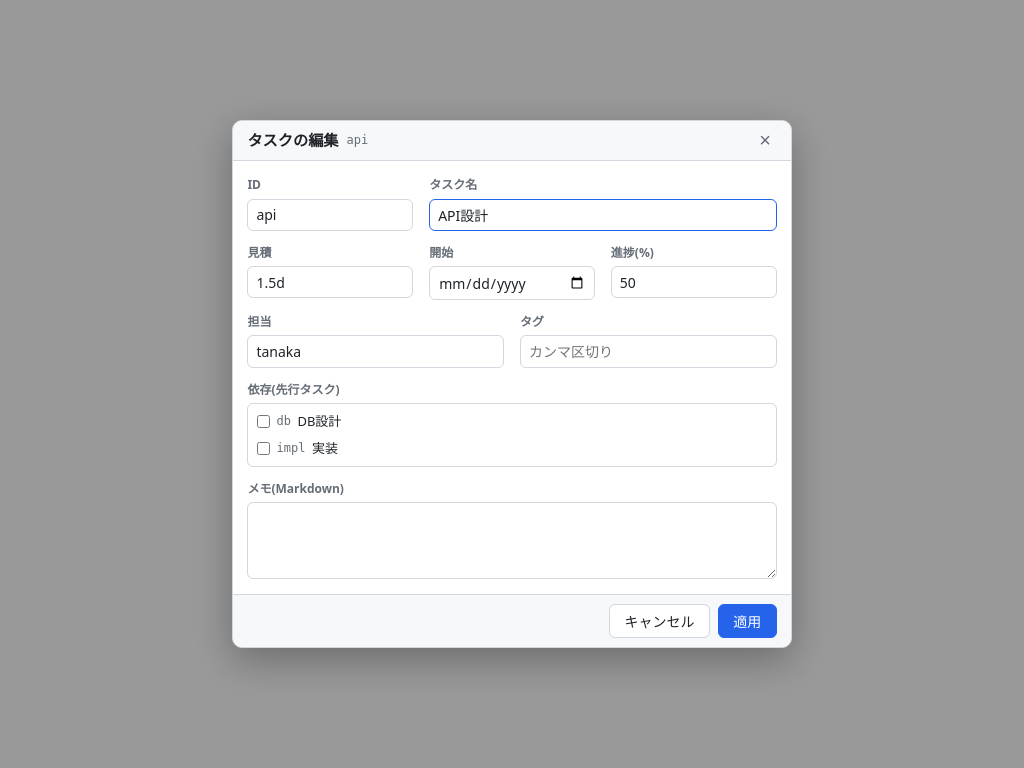
Test: TaskDialog › id の形式違反はエラーになる
Clear the field labelled "ID" at (330,215), box x1=247 y1=199 x2=413 y2=231
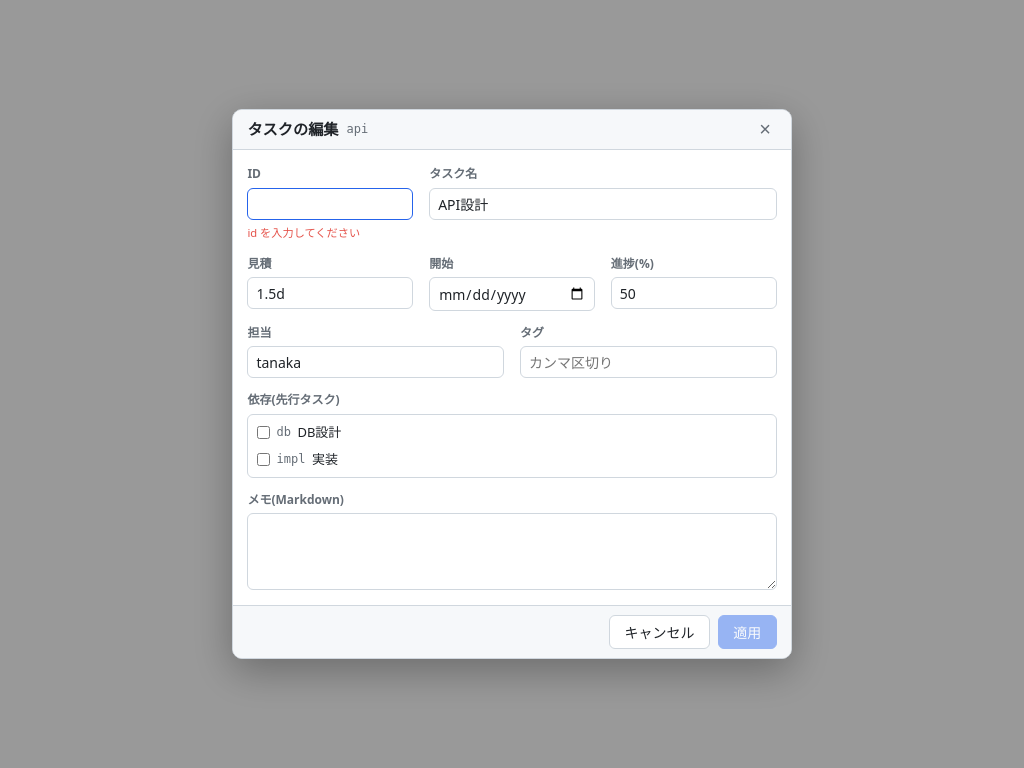
Type "1api" into the field labelled "ID" at (330,204), box x1=247 y1=188 x2=413 y2=220
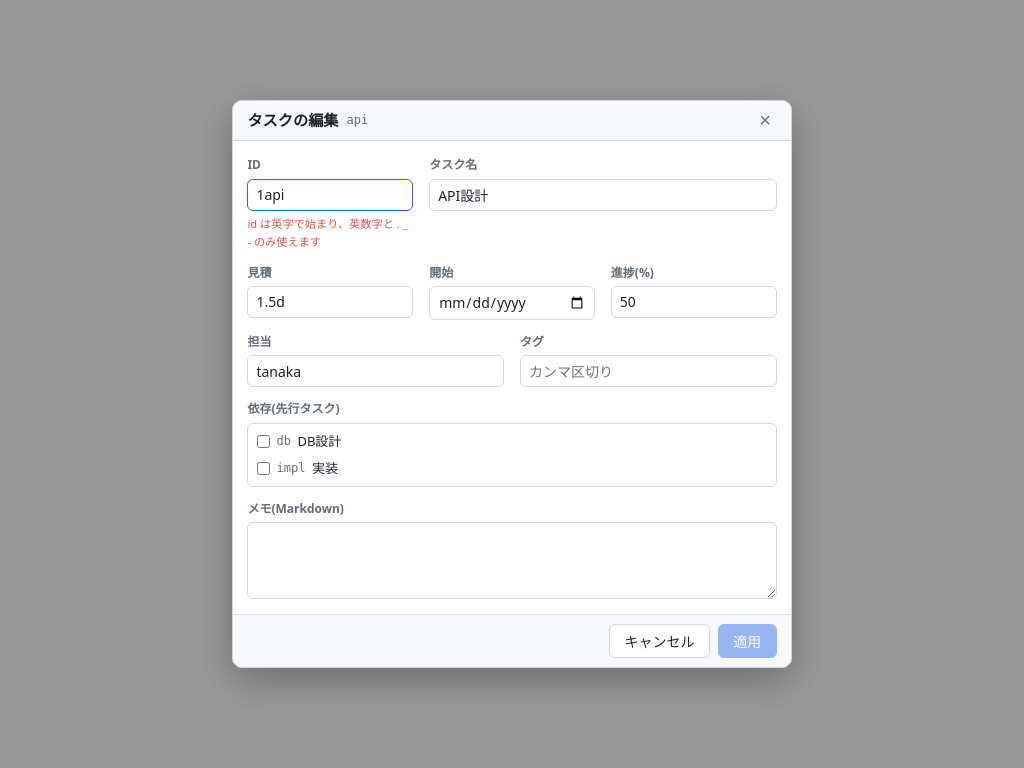
Now the button "適用" is disabled, box x1=718 y1=624 x2=777 y2=658
Now the text "id は英字で始まり、英数字と . _ - のみ使えます" is shown, box x1=247 y1=215 x2=413 y2=251
